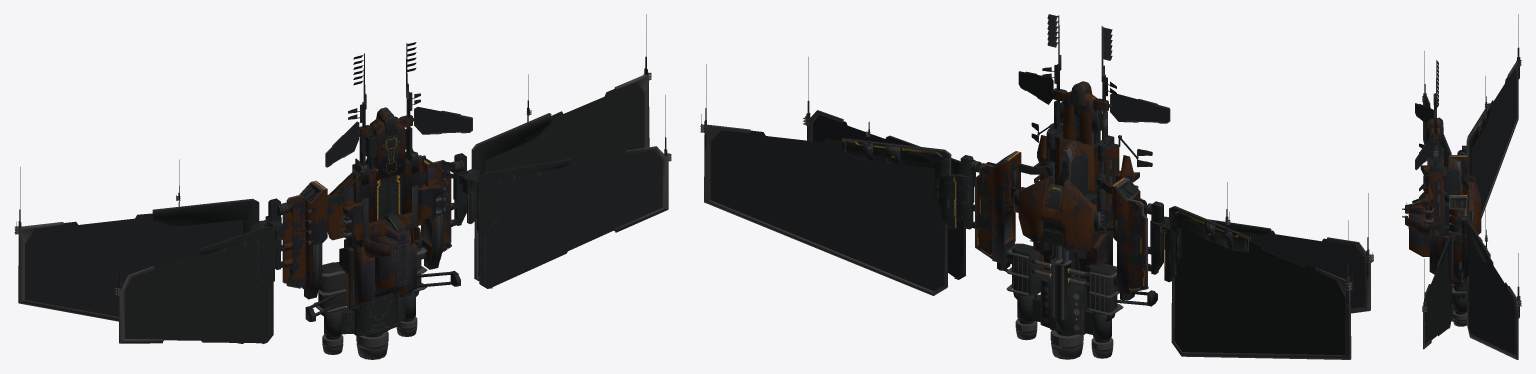
Rendered from slasher.glb.
3 views of the same model, side by side, from view 1: azimuth 30°, elevation 25°; view 2: azimuth 150°, elevation 25°; view 3: azimuth 270°, elevation 25° (orthographic). The views are drawn at different scales.
Visible parts, largest first — view 1: Slasher; view 2: Slasher; view 3: Slasher.
Boxes of the visible parts, left/top/right/bottom form: Slasher: left=14, top=14, right=671, bottom=359; Slasher: left=700, top=14, right=1373, bottom=359; Slasher: left=1402, top=14, right=1521, bottom=359.
Size of the model in its own units: 172 by 81.61 by 35.9.
Materials: 1 (1 with a texture image).
